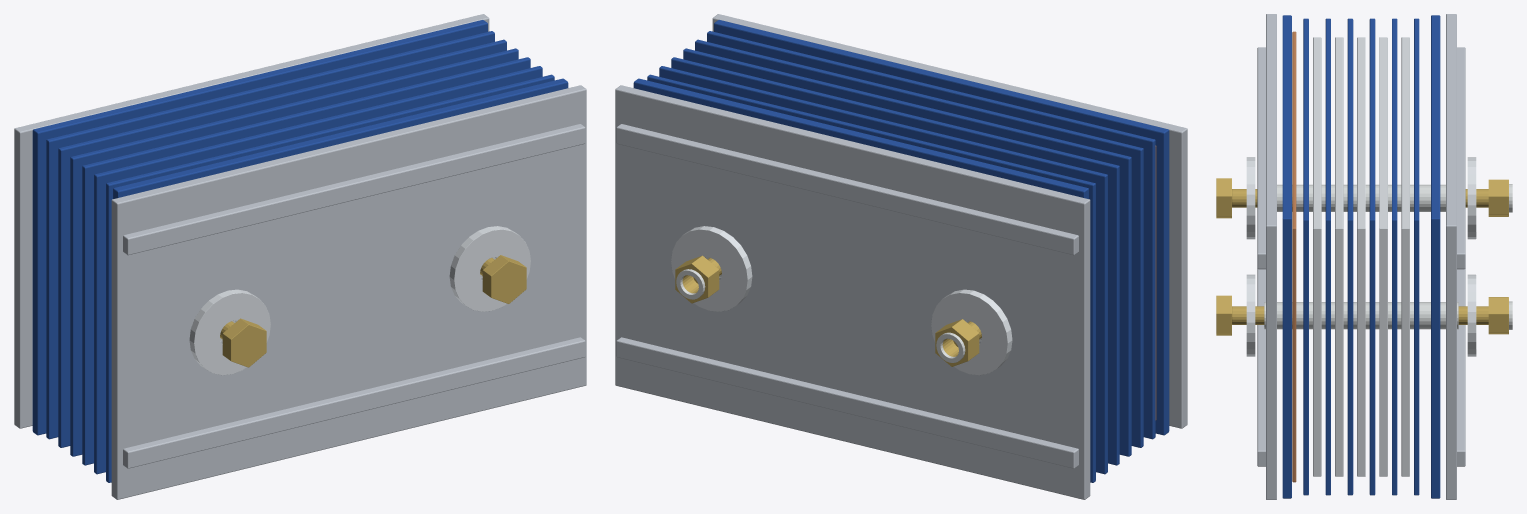
File: joint.glb
The picture shows the model from 3 angles, left to right: view 1: azimuth 30°, elevation 25°; view 2: azimuth 150°, elevation 25°; view 3: azimuth 270°, elevation 25°; orthographic projection. The views are drawn at different scales.
Parts seen in each view (by area): view 1: Layer plate.012, Layer plate.013, Pressed stiffening rib.001, Pressed stiffening rib, Layer plate.003, Layer plate.004, Layer plate.005, Layer plate.001, Layer plate.002, Layer plate.014, Layer plate.011, Layer plate (+4 smaller); view 2: Layer plate.014, Layer plate.011, Pressed stiffening rib.003, Pressed stiffening rib.002, Layer plate.002, Layer plate.001, Layer plate, Layer plate.004, Layer plate.003, Layer plate.012, Layer plate.013, Layer plate.005 (+4 smaller); view 3: Layer plate.012, Layer plate.014, Layer plate.011, Layer plate.013, Layer plate.006, Layer plate.007, Layer plate.008, Layer plate.009, Layer plate.010, Layer plate.003, Layer plate.002, Layer plate (+20 smaller).
Part boxes in pixels (x1,y1,x2,y2): Layer plate.012: (111, 85, 586, 499); Layer plate.013: (32, 20, 487, 435); Pressed stiffening rib.001: (123, 124, 585, 255); Pressed stiffening rib: (123, 337, 585, 468); Layer plate.003: (70, 48, 518, 456); Layer plate.004: (58, 39, 506, 447); Layer plate.005: (46, 31, 494, 439); Layer plate.001: (94, 66, 542, 474); Layer plate.002: (82, 57, 530, 465); Layer plate.014: (14, 14, 489, 428); Layer plate.011: (113, 78, 568, 198); Layer plate: (106, 74, 554, 482); Layer plate.014: (615, 85, 1090, 499); Layer plate.011: (714, 20, 1169, 435); Pressed stiffening rib.003: (616, 124, 1078, 255); Pressed stiffening rib.002: (616, 337, 1078, 468); Layer plate.002: (683, 48, 1131, 456); Layer plate.001: (695, 39, 1143, 447); Layer plate: (707, 31, 1155, 439); Layer plate.004: (659, 66, 1107, 474); Layer plate.003: (671, 57, 1119, 465); Layer plate.012: (712, 14, 1187, 428); Layer plate.013: (633, 78, 1088, 198); Layer plate.005: (647, 74, 1095, 482); Layer plate.012: (1266, 14, 1276, 499); Layer plate.014: (1446, 14, 1456, 499); Layer plate.011: (1282, 15, 1291, 498); Layer plate.013: (1431, 15, 1440, 498); Layer plate.006: (1313, 37, 1321, 476); Layer plate.007: (1335, 37, 1343, 476); Layer plate.008: (1357, 37, 1365, 476); Layer plate.009: (1379, 37, 1387, 476); Layer plate.010: (1401, 37, 1409, 476); Layer plate.003: (1369, 18, 1375, 495); Layer plate.002: (1347, 18, 1353, 495); Layer plate: (1303, 18, 1308, 495).
Size of the model in its own units: 0.318 by 0.196 by 0.1879.
